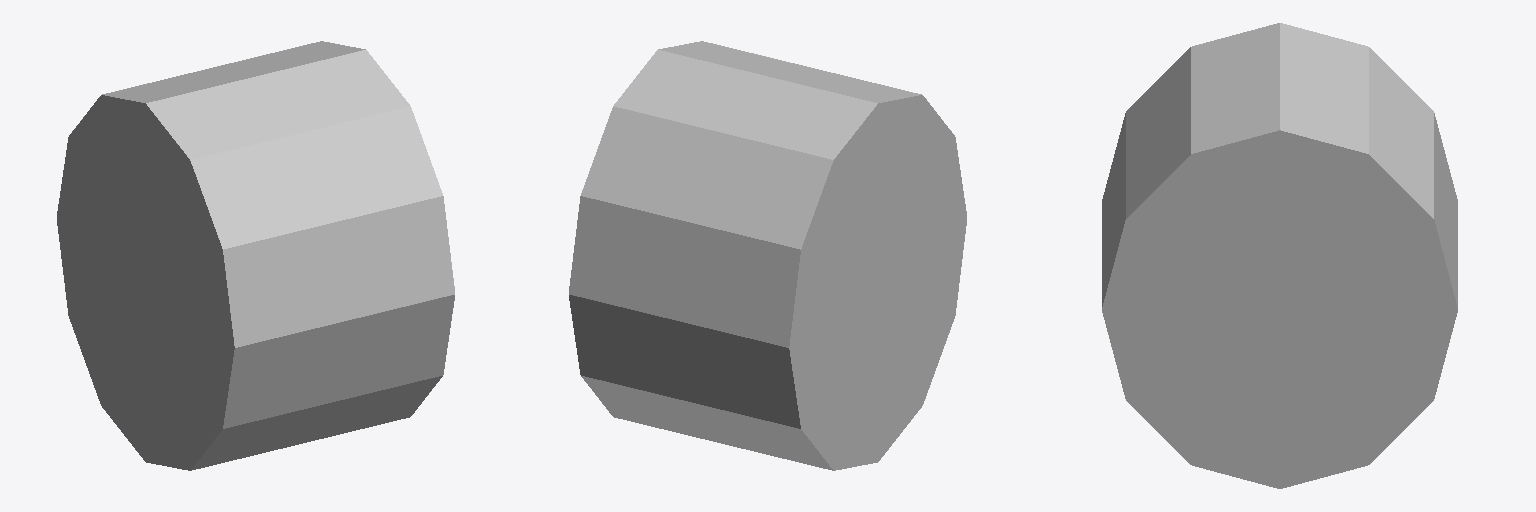
Rendered from lwheel1.obj.
3 views of the same model, side by side, from view 1: azimuth 30°, elevation 25°; view 2: azimuth 150°, elevation 25°; view 3: azimuth 270°, elevation 25° (orthographic).
Visible parts, largest first — view 1: lwheel1; view 2: lwheel1; view 3: lwheel1.
Part boxes in pixels (x1,y1,x2,y2): lwheel1: (57, 41, 454, 470); lwheel1: (569, 41, 966, 470); lwheel1: (1102, 23, 1457, 488).
Size of the model in its own units: 3.32 by 5.16 by 4.64.